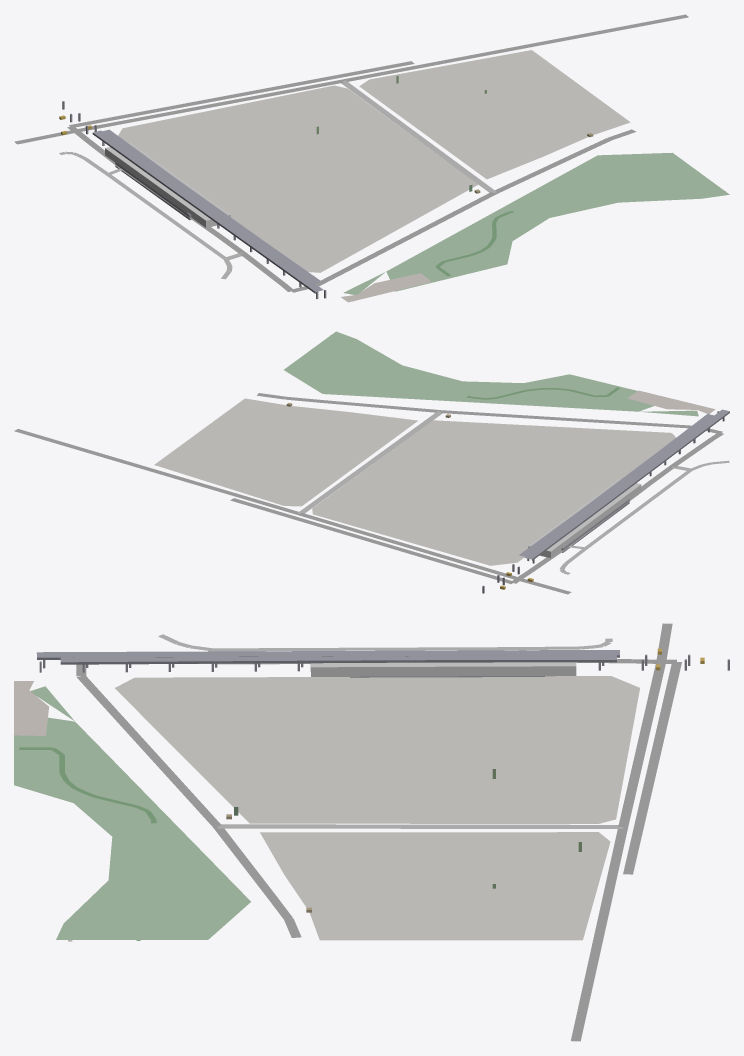
The picture shows the model from 3 angles, top to bottom: view 1: azimuth 30°, elevation 25°; view 2: azimuth 150°, elevation 25°; view 3: azimuth 270°, elevation 25°; orthographic projection. The views are drawn at different scales.
Bounding box in the file's own units: 683 × 12.56 × 499.
